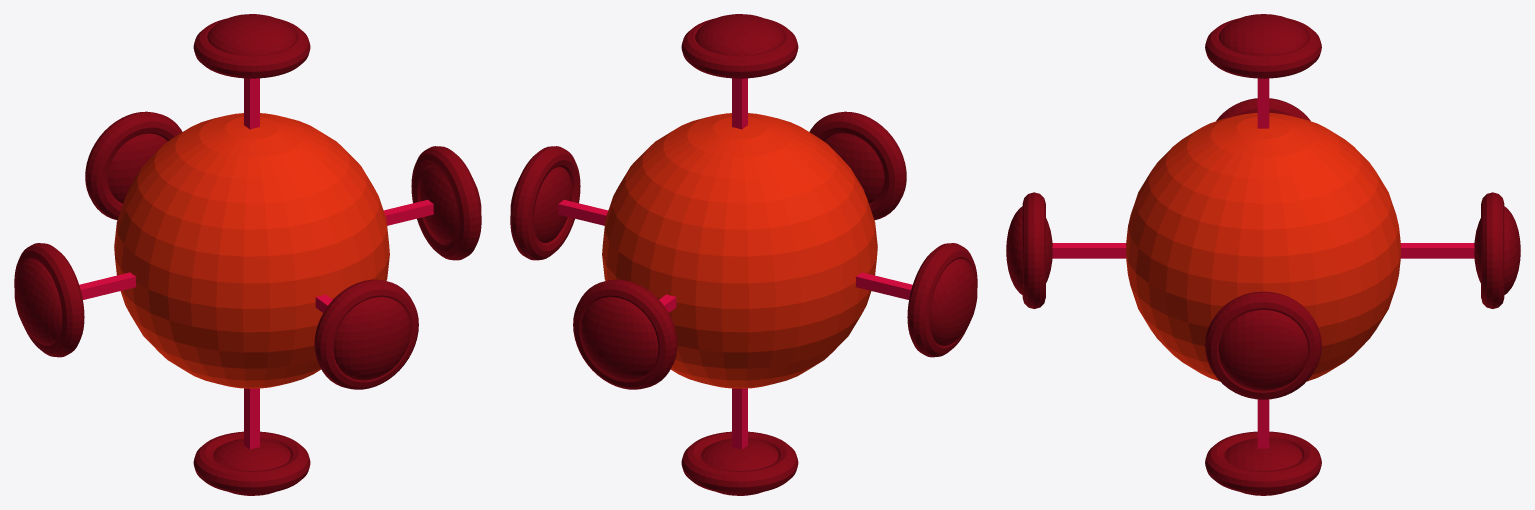
Rendered from LowPolyVirus.fbx.
The picture shows the model from 3 angles, left to right: view 1: azimuth 30°, elevation 25°; view 2: azimuth 150°, elevation 25°; view 3: azimuth 270°, elevation 25°; orthographic projection.
Visible parts, largest first — view 1: Sphere, Torus.001, Torus.002, Torus.000, Cube.001, Cube.002; view 2: Sphere, Torus.001, Torus.002, Torus.000, Cube.001, Cube.002; view 3: Sphere, Torus.000, Torus.002, Torus.001, Cube, Cube.001.
Part boxes in pixels (x1,y1,x2,y2): Sphere: (114, 113, 389, 388); Torus.001: (85, 111, 418, 389); Torus.002: (14, 146, 481, 357); Torus.000: (193, 14, 310, 495); Cube.001: (244, 78, 259, 449); Cube.002: (79, 199, 433, 299); Sphere: (602, 113, 877, 388); Torus.001: (573, 111, 906, 389); Torus.002: (510, 146, 977, 357); Torus.000: (681, 14, 798, 495); Cube.001: (732, 78, 747, 449); Cube.002: (558, 199, 912, 299); Sphere: (1126, 113, 1400, 381); Torus.000: (1205, 14, 1321, 495); Torus.002: (1205, 98, 1321, 399); Torus.001: (1006, 192, 1520, 308); Cube: (1052, 243, 1474, 258); Cube.001: (1257, 78, 1269, 448).
Bounding box in the file's own units: 1100 × 1100 × 1100.
